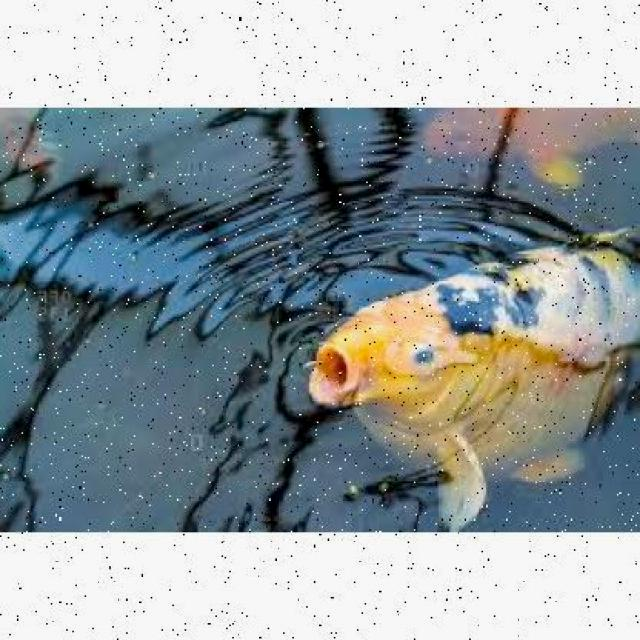ikan-mas: (308, 223, 640, 501)
